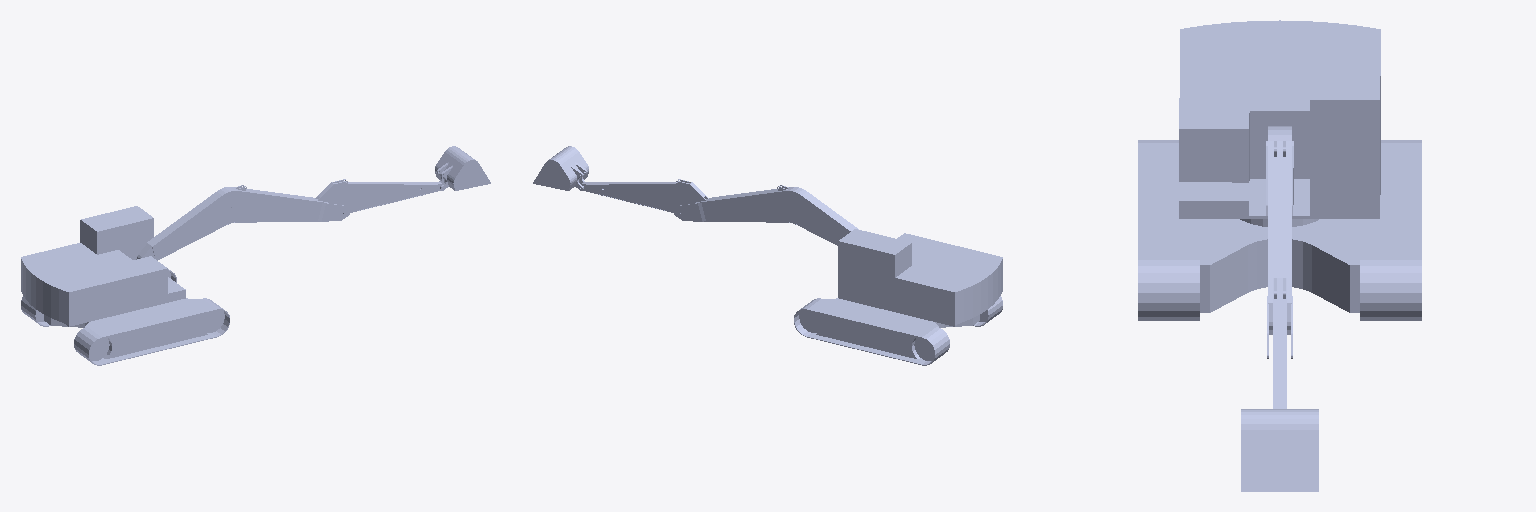
robot.urdf — URDF_real3:
<?xml version='1.0' encoding='utf-8'?>
<robot name="URDF_real3">
  <link name="base_link">
    <inertial>
      <origin xyz="-8.33198532504195E-16 0.0230017621817816 -2.79852942215149E-16" rpy="0 0 0" />
      <mass value="6545.82358910195" />
      <inertia ixx="6700.7667181218" ixy="-3.51839189570617E-13" ixz="4.37150315946157E-13" iyy="11842.440662814" iyz="-1.24591630598305E-13" izz="5755.09381589007" />
    </inertial>
    <visual>
      <origin xyz="0 0 0" rpy="0 0 0" />
      <geometry>
        <mesh filename="../meshes/base_link.STL" />
      </geometry>
      <material name="">
        <color rgba="0.792156862745098 0.819607843137255 0.933333333333333 1" />
      </material>
    </visual>
    <collision>
      <origin xyz="0 0 0" rpy="0 0 0" />
      <geometry>
        <mesh filename="../meshes/base_link.STL" />
      </geometry>
    </collision>
  </link>
  <link name="swing_link">
    <inertial>
      <origin xyz="0.782866411585355 0.59799960284555 0.11656377394543" rpy="1.5708 0 3.14" />
      <mass value="8299.35122427397" />
      <inertia ixx="5473.90968491819" ixy="600.297974176368" ixz="1112.3842101734" iyy="12325.7729335349" iyz="-530.062198108685" izz="9136.61128333223" />
    </inertial>
    <visual>
      <origin xyz="0 0 0" rpy="1.5708 0 3.14" />
      <geometry>
        <mesh filename="../meshes/swing_link.STL" />
      </geometry>
      <material name="">
        <color rgba="0.792156862745098 0.819607843137255 0.933333333333333 1" />
      </material>
    </visual>
    <collision>
      <origin xyz="0 0 0" rpy="1.5708 0 3.14" />
      <geometry>
        <mesh filename="../meshes/swing_link.STL" />
      </geometry>
    </collision>
  </link>
  <joint name="swing" type="continuous">
    <origin xyz="0 0 0.6" rpy="0 0 0" />
    <parent link="base_link" />
    <child link="swing_link" />
    <axis xyz="0 0 1" />
    <limit effort="1000000" velocity="1.0" />
    <dynamics damping="10.0" friction="0.0" />
  </joint>
  <link name="boom_link">
    <inertial>
      <origin xyz="1.04793568156625E-08 -1.62931637782874 2.26396661057835" rpy="2.284 -1.5707 0.43" />
      <mass value="4502.84104003996" />
      <inertia ixx="11317.5439018729" ixy="3.10045387231925E-05" ixz="-0.000111286949140274" iyy="9139.77862656387" iyz="3667.22549978772" izz="2230.36270592873" />
    </inertial>
    <visual>
      <origin xyz="0 0 0" rpy="2.284 -1.5707 0.43" />
      <geometry>
        <mesh filename="../meshes/boom_link.STL" />
      </geometry>
      <material name="">
        <color rgba="0.792156862745098 0.819607843137255 0.933333333333333 1" />
      </material>
    </visual>
    <collision>
      <origin xyz="0 0 0" rpy="2.284 -1.5707 0.43" />
      <geometry>
        <mesh filename="../meshes/boom_link.STL" />
      </geometry>
    </collision>
  </link>
  <joint name="boom" type="revolute">
    <origin xyz="0.53 0 0.77" rpy="1.5707 0.0 0" />
    <parent link="swing_link" />
    <child link="boom_link" />
    <axis xyz="0 0 1" />
    <limit effort="1000000" velocity="1.0" lower="-1.5707" upper="1.5707" />
    <dynamics damping="10.0" friction="0.0" />
  </joint>
  <link name="arm_link">
    <inertial>
      <origin xyz="-5.51010138386911E-13 0.250586060095889 0.911625562203973" rpy="0 1.5707 0" />
      <mass value="2021.70905155499" />
      <inertia ixx="1721.10884478239" ixy="-0.000442999200787283" ixz="-0.021208925944617" iyy="1625.40637407163" iyz="215.827193066607" izz="102.394331368054" />
    </inertial>
    <visual>
      <origin xyz="0 0 0" rpy="0 1.5707 0" />
      <geometry>
        <mesh filename="../meshes/arm_link.STL" />
      </geometry>
      <material name="">
        <color rgba="0.792156862745098 0.819607843137255 0.933333333333333 1" />
      </material>
    </visual>
    <collision>
      <origin xyz="0 0 0" rpy="0 1.5707 0" />
      <geometry>
        <mesh filename="../meshes/arm_link.STL" />
      </geometry>
    </collision>
  </link>
  <joint name="arm" type="revolute">
    <origin xyz="5.715 0 0" rpy="0 0 -0.0" />
    <parent link="boom_link" />
    <child link="arm_link" />
    <axis xyz="0 0 1 " />
    <limit effort="1000000" velocity="1.0" lower="-1.5707" upper="1.5707" />
    <dynamics damping="10.0" friction="0.0" />
  </joint>
  <link name="bucket_link">
    <inertial>
      <origin xyz="1.12103615549738E-12 0.319002787659582 -0.621539782955361" rpy="0 1.5707 -2.52" />
      <mass value="1537.39865114626" />
      <inertia ixx="236.963188267403" ixy="6.87150681062366E-13" ixz="-1.2085308130199E-12" iyy="263.005172016286" iyz="32.5636959467828" izz="313.203572295113" />
    </inertial>
    <visual>
      <origin xyz="0 0 0" rpy="0 1.5707 -2.1" />
      <geometry>
        <mesh filename="../meshes/bucket_link.STL" />
      </geometry>
      <material name="">
        <color rgba="0.792156862745098 0.819607843137255 0.933333333333333 1" />
      </material>
    </visual>
    <collision>
      <origin xyz="0 0 0" rpy="0 1.5707 -2.1" />
      <geometry>
        <mesh filename="../meshes/bucket_link.STL" />
      </geometry>
    </collision>
  </link>
  <joint name="bucket" type="revolute">
    <origin xyz="2.95 0 0 " rpy="0 0 0.0" />
    <parent link="arm_link" />
    <child link="bucket_link" />
    <axis xyz="0 0 1" />
    <limit effort="1000000" velocity="1.0" lower="-1.5707" upper="1.5707" />
    <dynamics damping="10.0" friction="0.0" />
  </joint>
</robot>

--- Facts derived from the render (not from the file) ---
The picture shows the robot from 3 angles, left to right: view 1: azimuth 30°, elevation 25°; view 2: azimuth 150°, elevation 25°; view 3: azimuth 270°, elevation 25°; orthographic projection.
Robot: URDF_real3 — 5 links, 4 joints (3 revolute, 1 continuous); root link base_link; default pose: all joints at 0.
Visible links, largest first — view 1: swing_link, base_link, boom_link, arm_link, bucket_link; view 2: swing_link, base_link, boom_link, arm_link, bucket_link; view 3: swing_link, base_link, bucket_link, boom_link, arm_link.
Link boxes in pixels (x1,y1,x2,y2): swing_link: (21, 206, 185, 326); base_link: (21, 264, 229, 365); boom_link: (137, 185, 349, 260); arm_link: (315, 179, 442, 213); bucket_link: (435, 146, 490, 190); swing_link: (838, 229, 1002, 326); base_link: (794, 296, 1002, 365); boom_link: (674, 185, 858, 245); arm_link: (581, 179, 708, 213); bucket_link: (533, 146, 588, 190); swing_link: (1179, 20, 1380, 218); base_link: (1138, 140, 1421, 320); bucket_link: (1241, 409, 1318, 491); boom_link: (1267, 126, 1292, 358); arm_link: (1273, 278, 1286, 408).
Bounding box of the posed robot: 13 × 3.44 × 3.12 m (x, y, z).
5 mesh visuals loaded from 5 distinct referenced files (5 binary STL).
